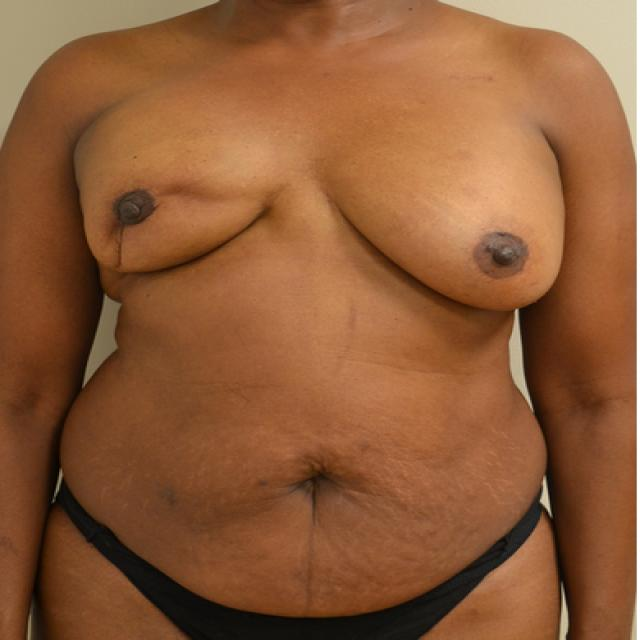Seno herido: (66, 124, 297, 286)
Seno ileso: (320, 121, 573, 326)
